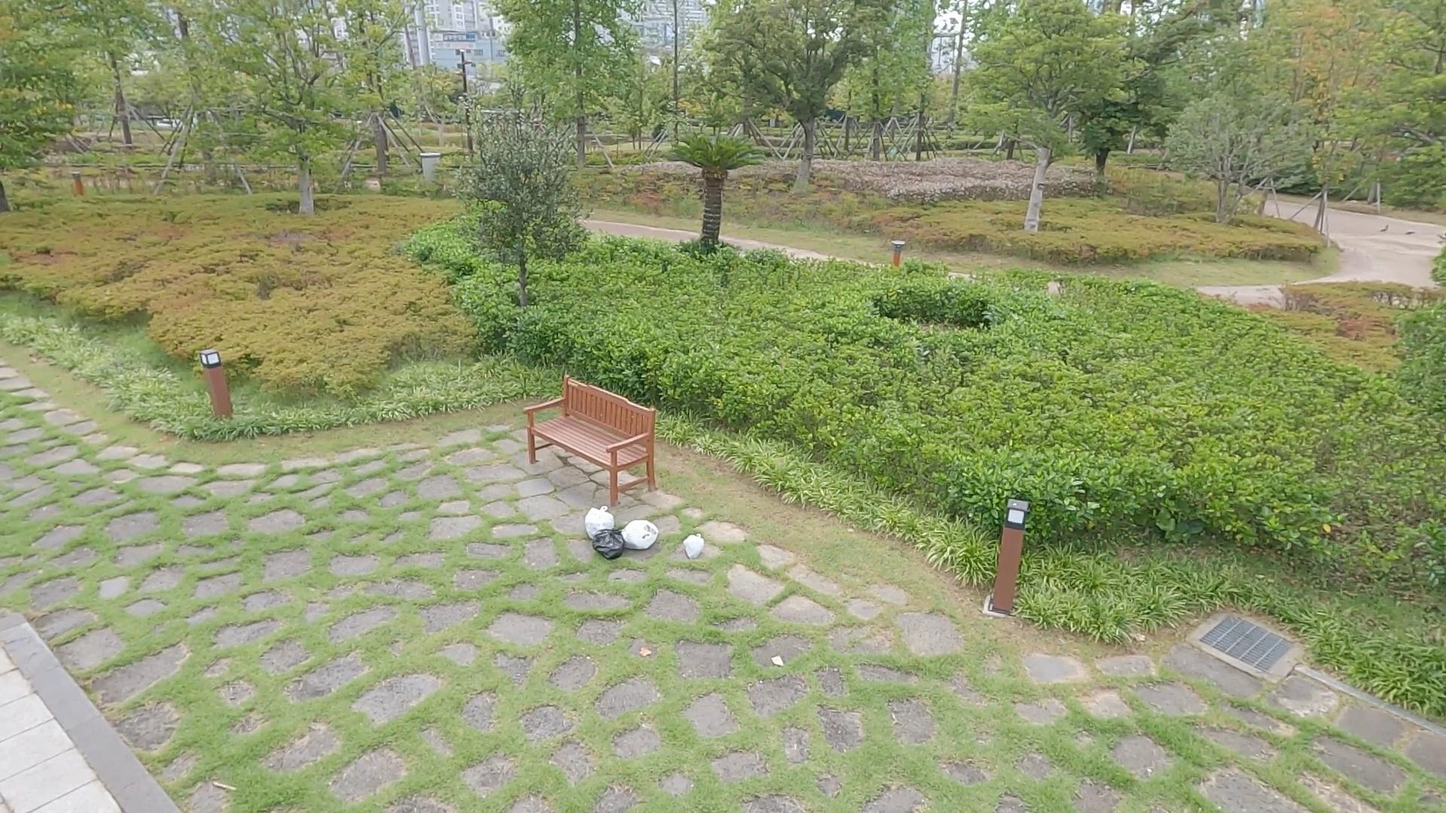trash: (589, 521, 629, 561), (582, 502, 619, 539), (624, 518, 659, 556), (683, 535, 708, 560)
